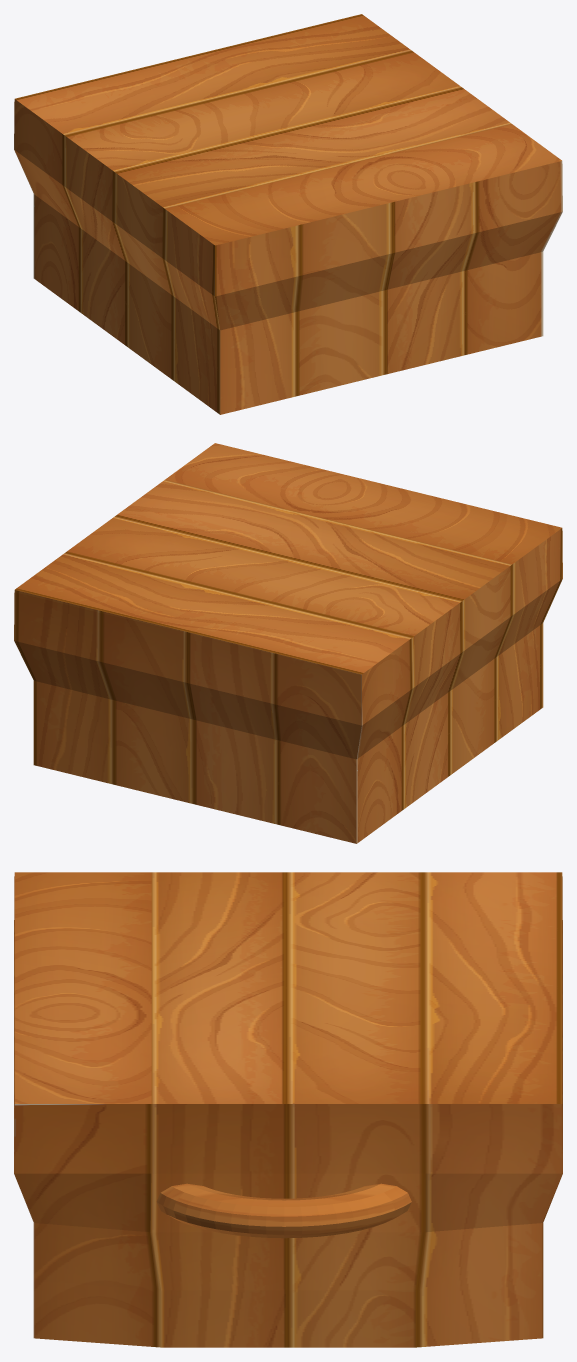
Rendered from table.fbx.
3 renders of one model, top to bottom at view 1: azimuth 30°, elevation 25°; view 2: azimuth 150°, elevation 25°; view 3: azimuth 270°, elevation 25°, orthographic. The views are drawn at different scales.
Parts seen in each view (by area): view 1: Cube; view 2: Cube; view 3: Cube.
Part boxes in pixels (<box>): Cube: <box>14,14,562,414</box>; Cube: <box>14,443,562,843</box>; Cube: <box>14,872,562,1347</box>.
Bounding box in the file's own units: 111 × 48.84 × 100.
